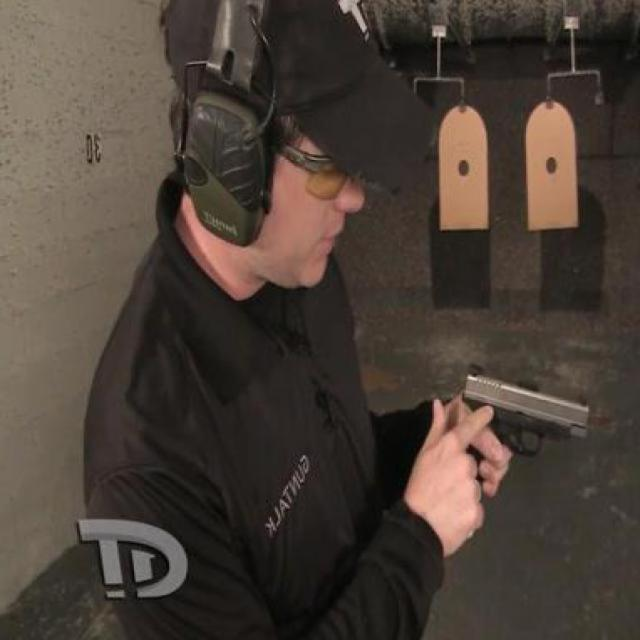pistol: (454, 363, 594, 491)
